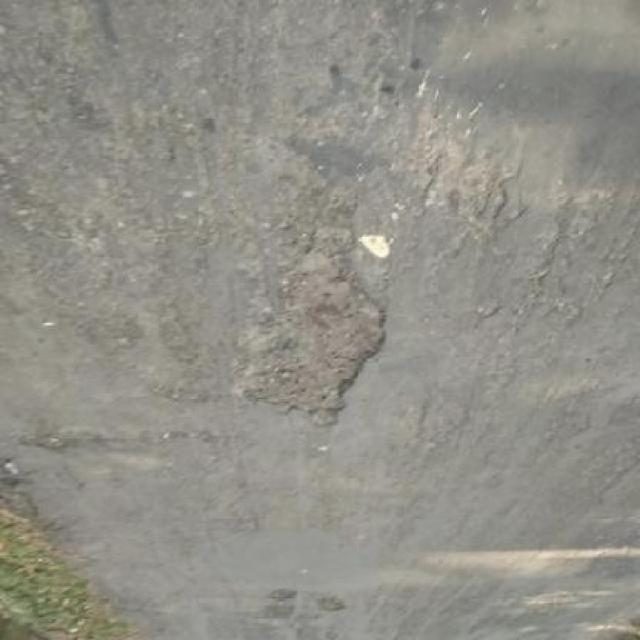pothole: (235, 236, 391, 427), (316, 590, 346, 616), (262, 603, 298, 622), (267, 588, 299, 602)
